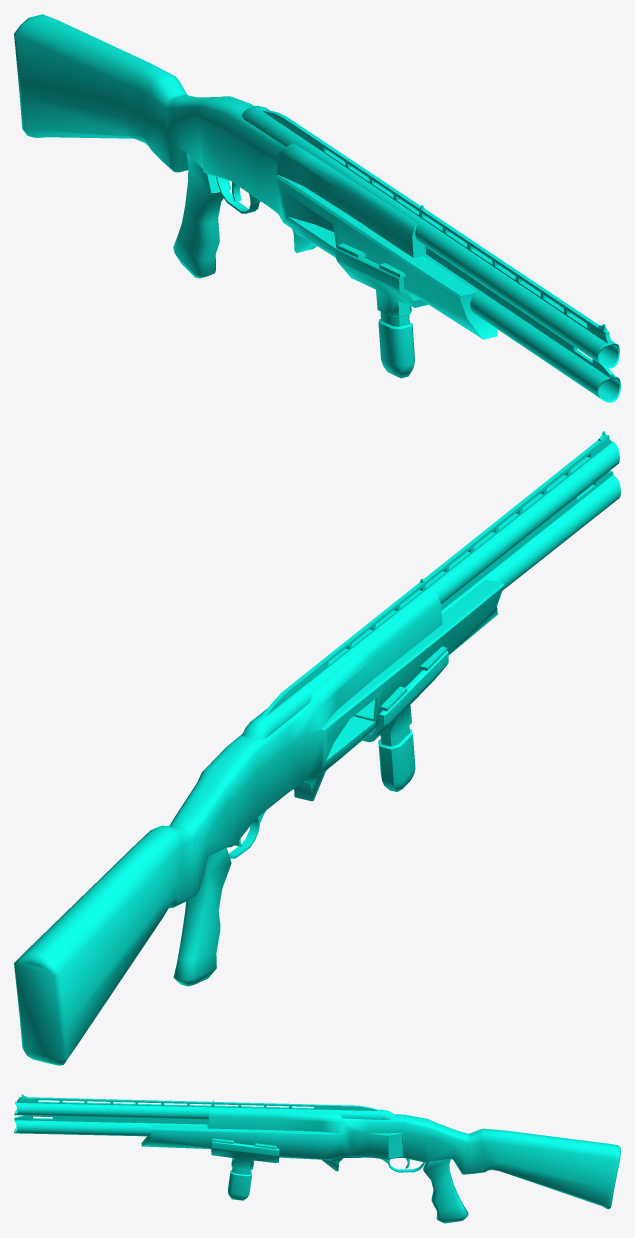
File: prop_wep_shotgun.FBX
3 views of the same model, one above another, from view 1: azimuth 30°, elevation 25°; view 2: azimuth 150°, elevation 25°; view 3: azimuth 270°, elevation 25° (orthographic). The views are drawn at different scales.
Parts seen in each view (by area): view 1: porp_shotgun_mainother3; view 2: porp_shotgun_mainother3; view 3: porp_shotgun_mainother3.
Part boxes in pixels (box(x1,y1,x2,y2)): porp_shotgun_mainother3: box(14, 14, 620, 402); porp_shotgun_mainother3: box(14, 431, 620, 1065); porp_shotgun_mainother3: box(14, 1094, 620, 1223).
Size of the model in its own units: 5.68 by 25.62 by 110.
